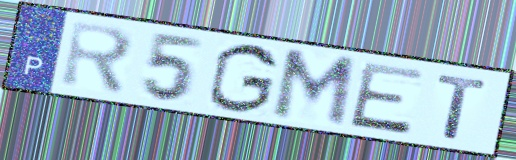5: (140, 29, 206, 103)
E: (345, 60, 428, 138)
G: (205, 41, 282, 116)
M: (267, 47, 360, 131)
R: (57, 18, 138, 98)
T: (434, 72, 492, 143)
